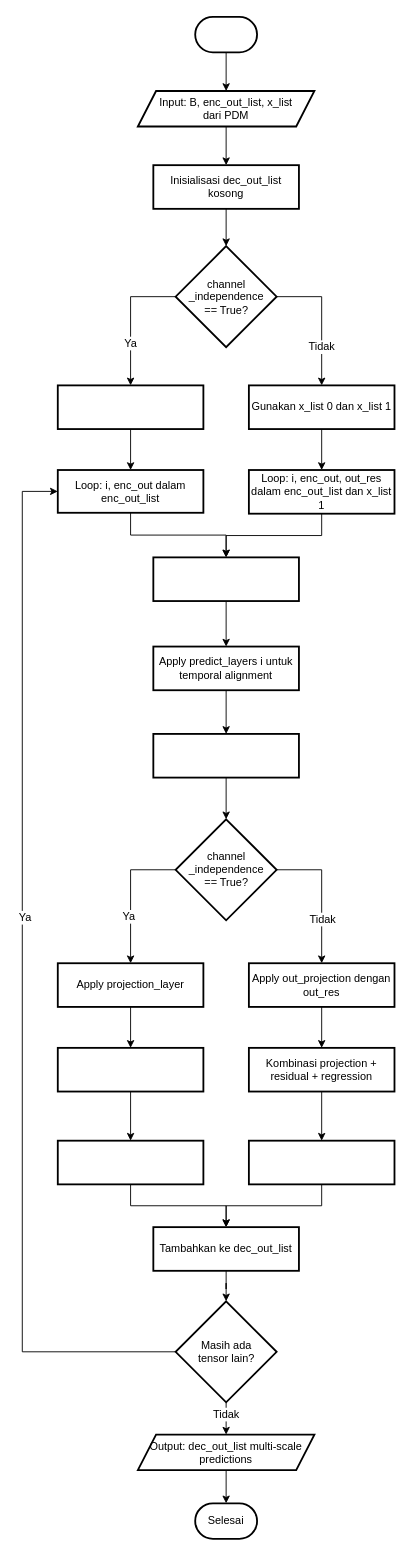
The diagram is 411 pixels wide and 1555 high, and some of its shapes have lost their labels. Each missing label, with the centre of its shape:
Mulai: [226,34]
Output dengan dimensi B,pred_len,C_out: [321,1162]
Permute enc_out: B,T,C → B,C,T: [225,579]
Permute kembali: B,C,T → B,T,C: [225,755]
Permute: B,C_out,pred_len → B,pred_len,C_out: [130,1162]
Reshape: B*N,T,1 → B,C_out,pred_len: [130,1069]
Set x_list = x_list 0: [130,407]
